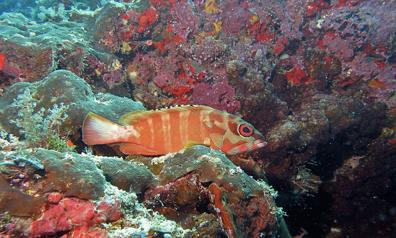Serranidae -Groupers-: (80, 100, 265, 158)
